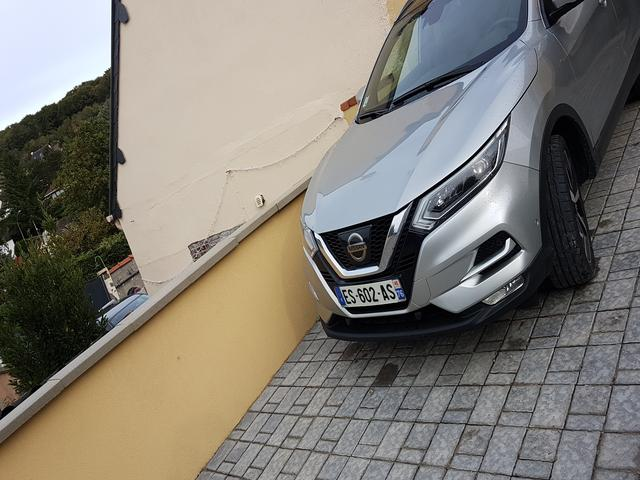Quashquai: (333, 272, 408, 315)
